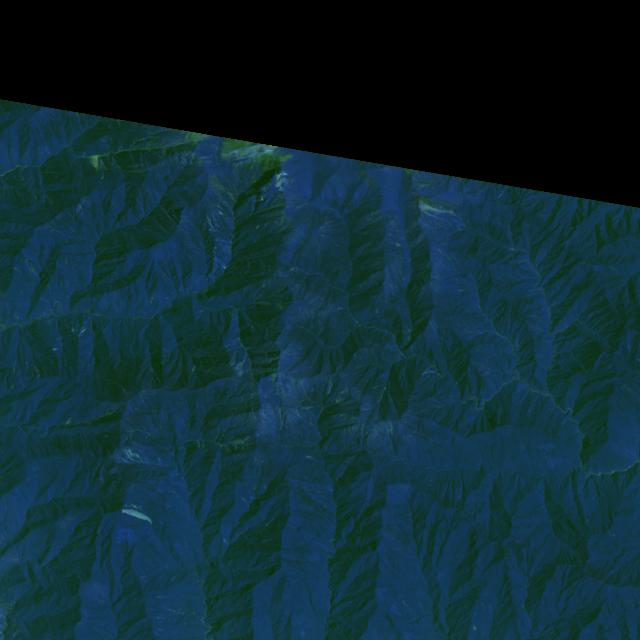landslides: (420, 198, 462, 223), (209, 174, 236, 203), (419, 207, 454, 229), (121, 508, 154, 525), (122, 447, 151, 464), (257, 285, 287, 301), (152, 602, 187, 614), (385, 418, 395, 457), (437, 248, 455, 268), (235, 350, 249, 371), (319, 216, 338, 231), (408, 234, 424, 250), (125, 446, 142, 461), (313, 541, 334, 553), (292, 407, 307, 423), (466, 327, 496, 334), (218, 194, 232, 209), (278, 218, 292, 233), (220, 439, 244, 447), (335, 388, 347, 404), (159, 489, 180, 498), (431, 282, 444, 296), (25, 259, 35, 276), (456, 279, 476, 287), (75, 112, 83, 132), (332, 176, 345, 188), (276, 215, 287, 229), (124, 503, 143, 511), (299, 379, 307, 398), (12, 352, 19, 373), (230, 350, 239, 366), (279, 407, 285, 431), (409, 218, 419, 232), (151, 150, 164, 160), (226, 339, 240, 348), (369, 216, 382, 225), (151, 369, 159, 383)
